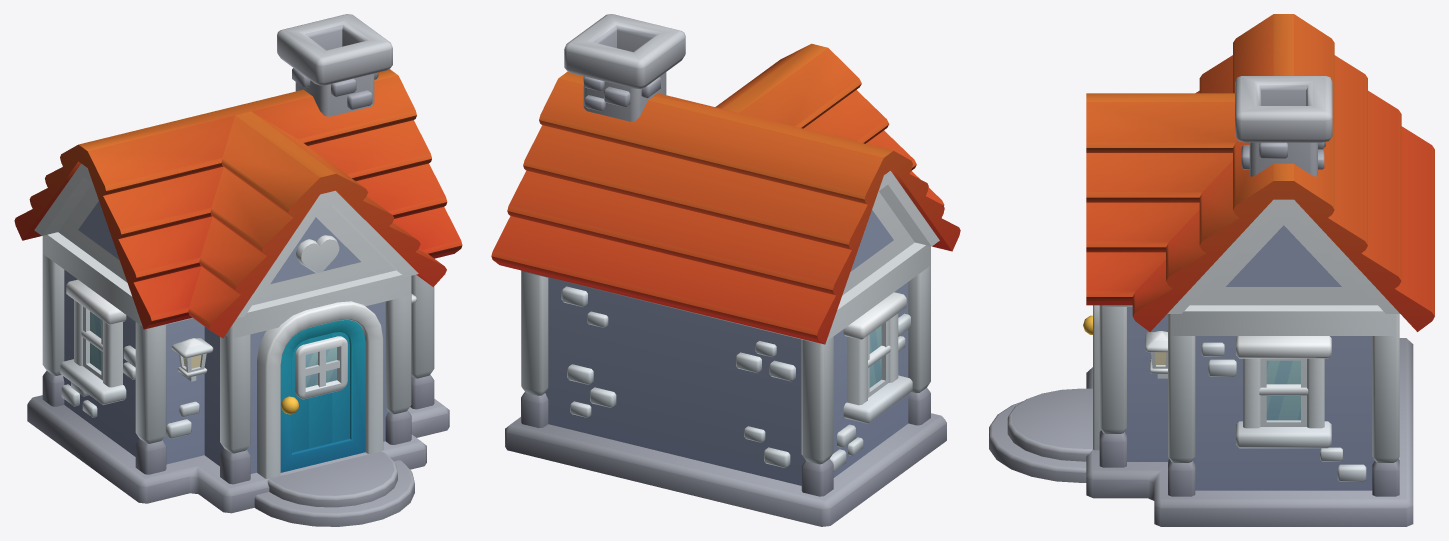
File: house.gltf
The picture shows the model from 3 angles, left to right: view 1: azimuth 30°, elevation 25°; view 2: azimuth 150°, elevation 25°; view 3: azimuth 270°, elevation 25°; orthographic projection. The views are drawn at different scales.
Visible parts, largest first — view 1: house, house_door, house_chimney, house_heart; view 2: house, house_chimney; view 3: house, house_chimney.
Part boxes in pixels (x1,y1,x2,y2): house: (14,69,462,526); house_door: (280,320,365,472); house_chimney: (277,14,392,116); house_heart: (296,235,339,272); house: (491,43,960,526); house_chimney: (564,14,685,121); house: (989,14,1434,526); house_chimney: (1235,76,1332,176).
Size of the model in its own units: 5.9 by 6.5 by 6.54.
Materials: 1 (1 with a texture image).
